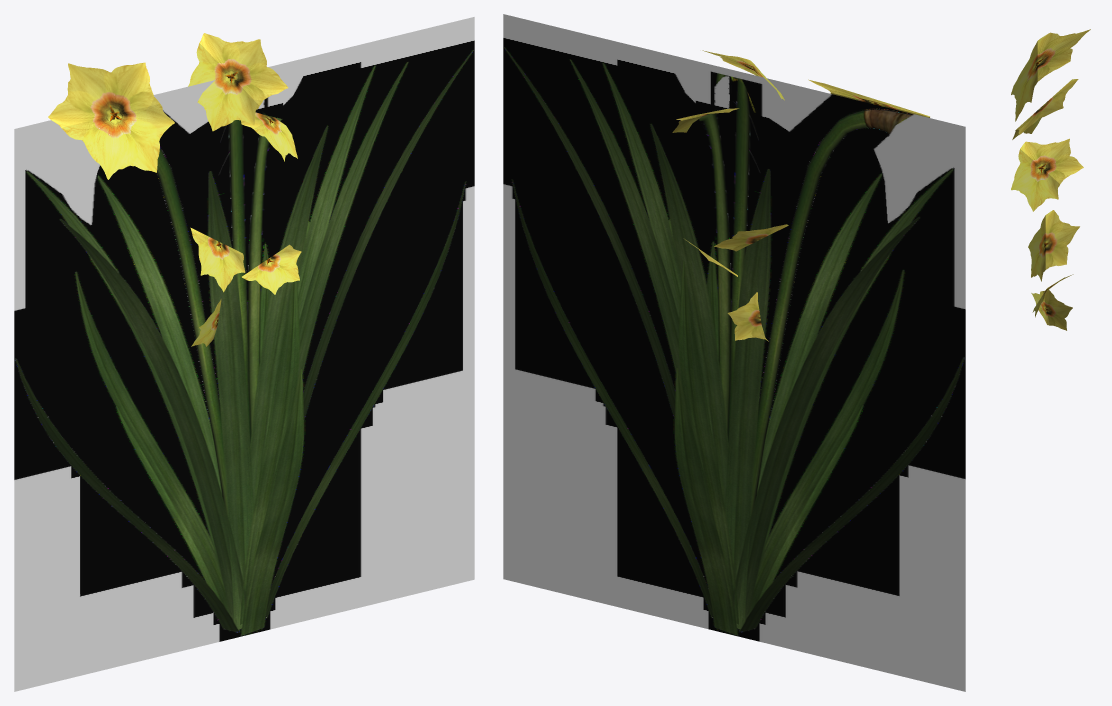
The model's file is grass_with_yellow_flower.glb.
The picture shows the model from 3 angles, left to right: view 1: azimuth 30°, elevation 25°; view 2: azimuth 150°, elevation 25°; view 3: azimuth 270°, elevation 25°; orthographic projection. The views are drawn at different scales.
Visible parts, largest first — view 1: daffodil-flower-01; view 2: daffodil-flower-01; view 3: daffodil-flower-01.
Part boxes in pixels (x1,y1,x2,y2): daffodil-flower-01: [14, 17, 474, 691]; daffodil-flower-01: [503, 14, 965, 691]; daffodil-flower-01: [1011, 29, 1090, 330].
Bounding box in the file's own units: 0.6159 × 0.7672 × 0.1405.
2 materials, 2 textured.
